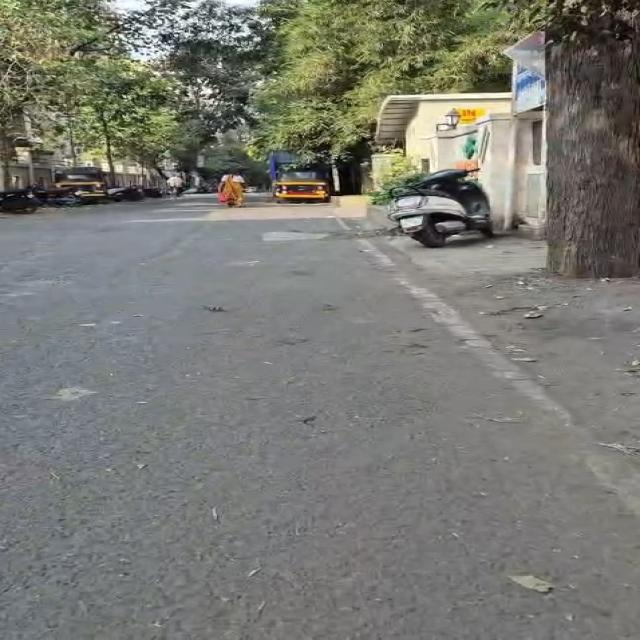bike: (389, 169, 492, 247), (98, 110, 116, 186), (219, 171, 245, 206), (168, 174, 183, 198)
